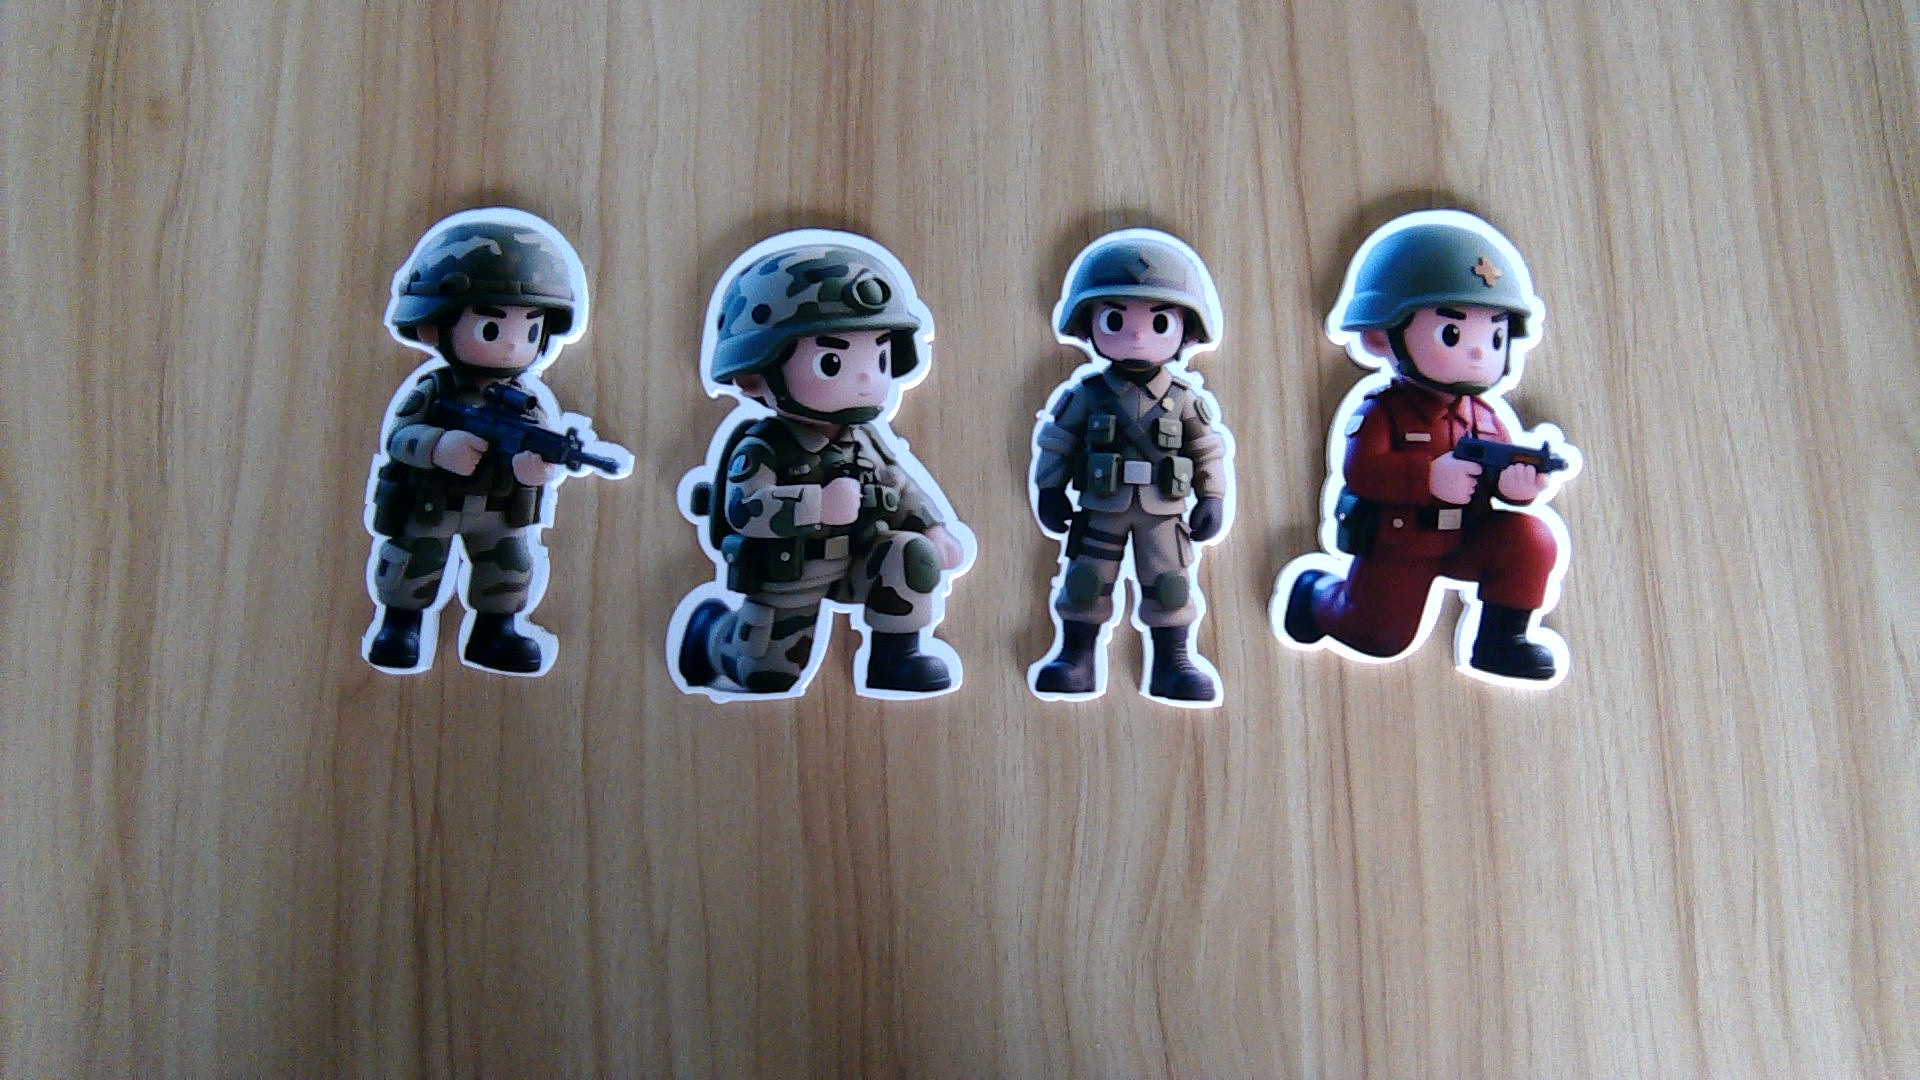友军: (655, 417, 982, 702), (356, 378, 629, 680), (1015, 367, 1241, 708)
敌人1: (1265, 396, 1582, 694)
